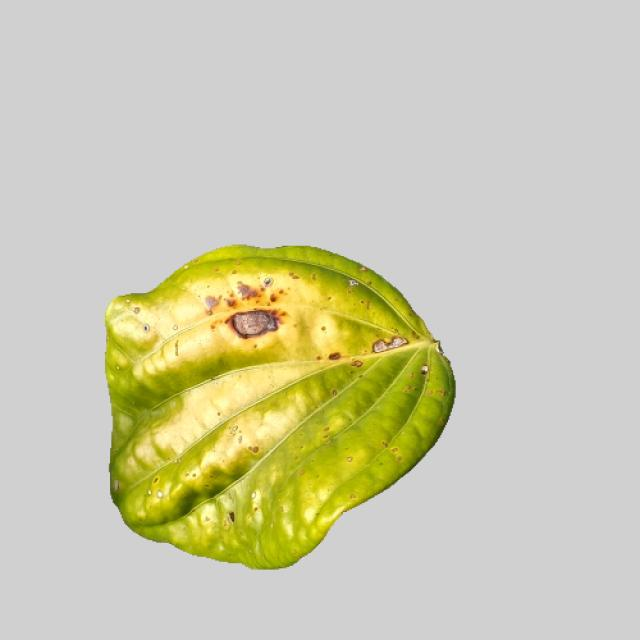leaf-blight: (95, 236, 467, 570)
